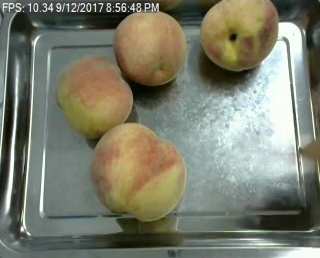Peach: (89, 123, 185, 221), (54, 54, 134, 139), (109, 7, 185, 86), (199, 0, 279, 71)
